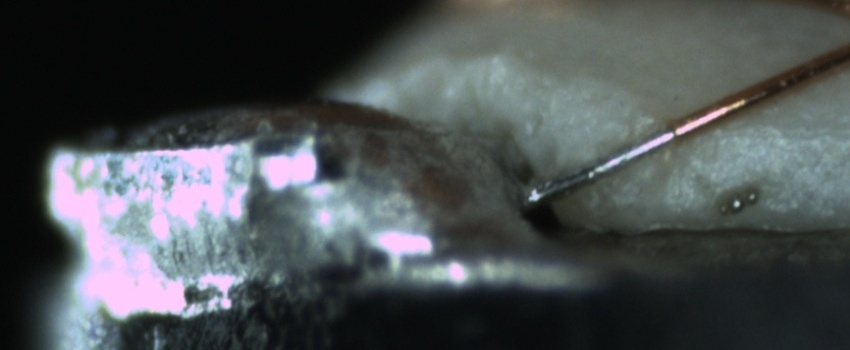TS: (530, 127, 676, 204)
